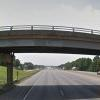Bridge: (3, 14, 96, 70)
